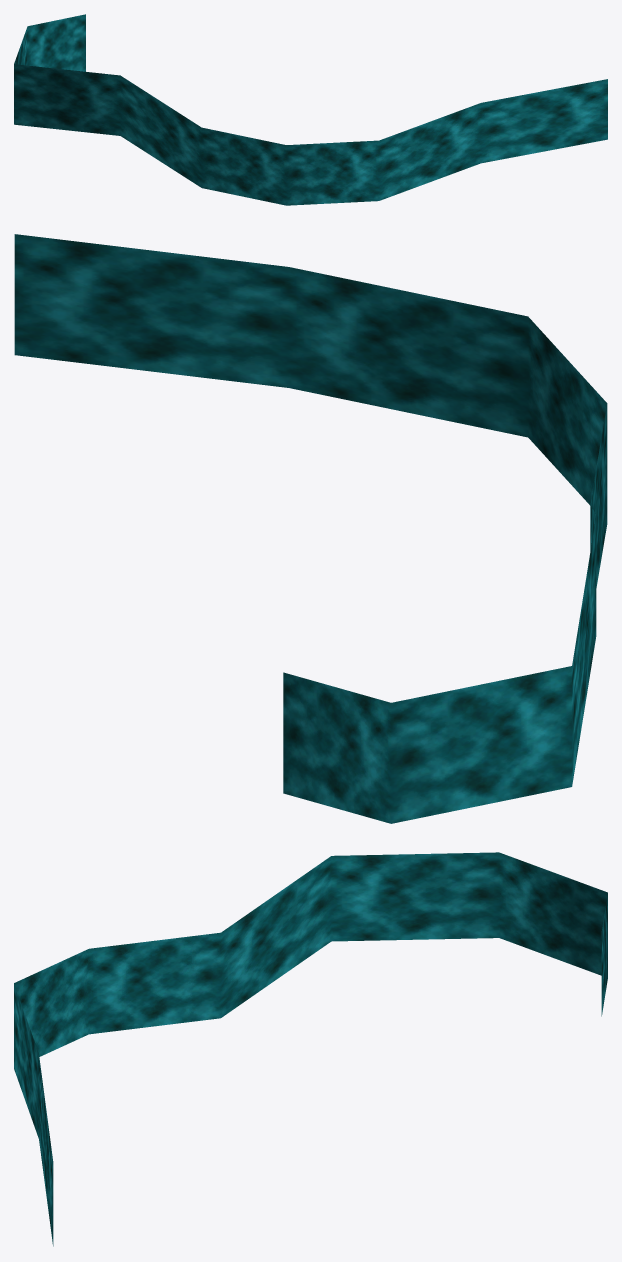
Rendered from MIRKWOOD_FOGF.fbx.
The picture shows the model from 3 angles, top to bottom: view 1: azimuth 30°, elevation 25°; view 2: azimuth 150°, elevation 25°; view 3: azimuth 270°, elevation 25°; orthographic projection. The views are drawn at different scales.
Parts seen in each view (by area): view 1: MIRKWOOD_FOGF; view 2: MIRKWOOD_FOGF; view 3: MIRKWOOD_FOGF.
Part boxes in pixels (<box>): MIRKWOOD_FOGF: <box>14,14,607,205</box>; MIRKWOOD_FOGF: <box>14,234,607,823</box>; MIRKWOOD_FOGF: <box>14,852,607,1246</box>.
Size of the model in its own units: 625319 by 129100 by 521280.
1 material, 1 textured.
